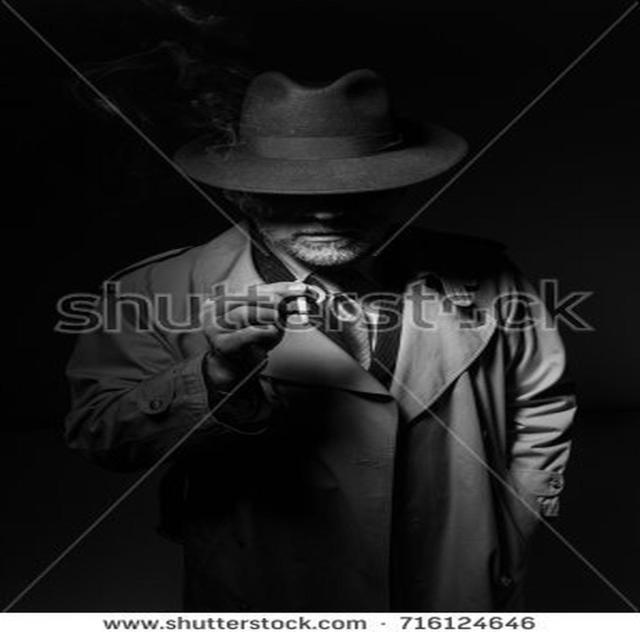smoking: (70, 53, 530, 472)
